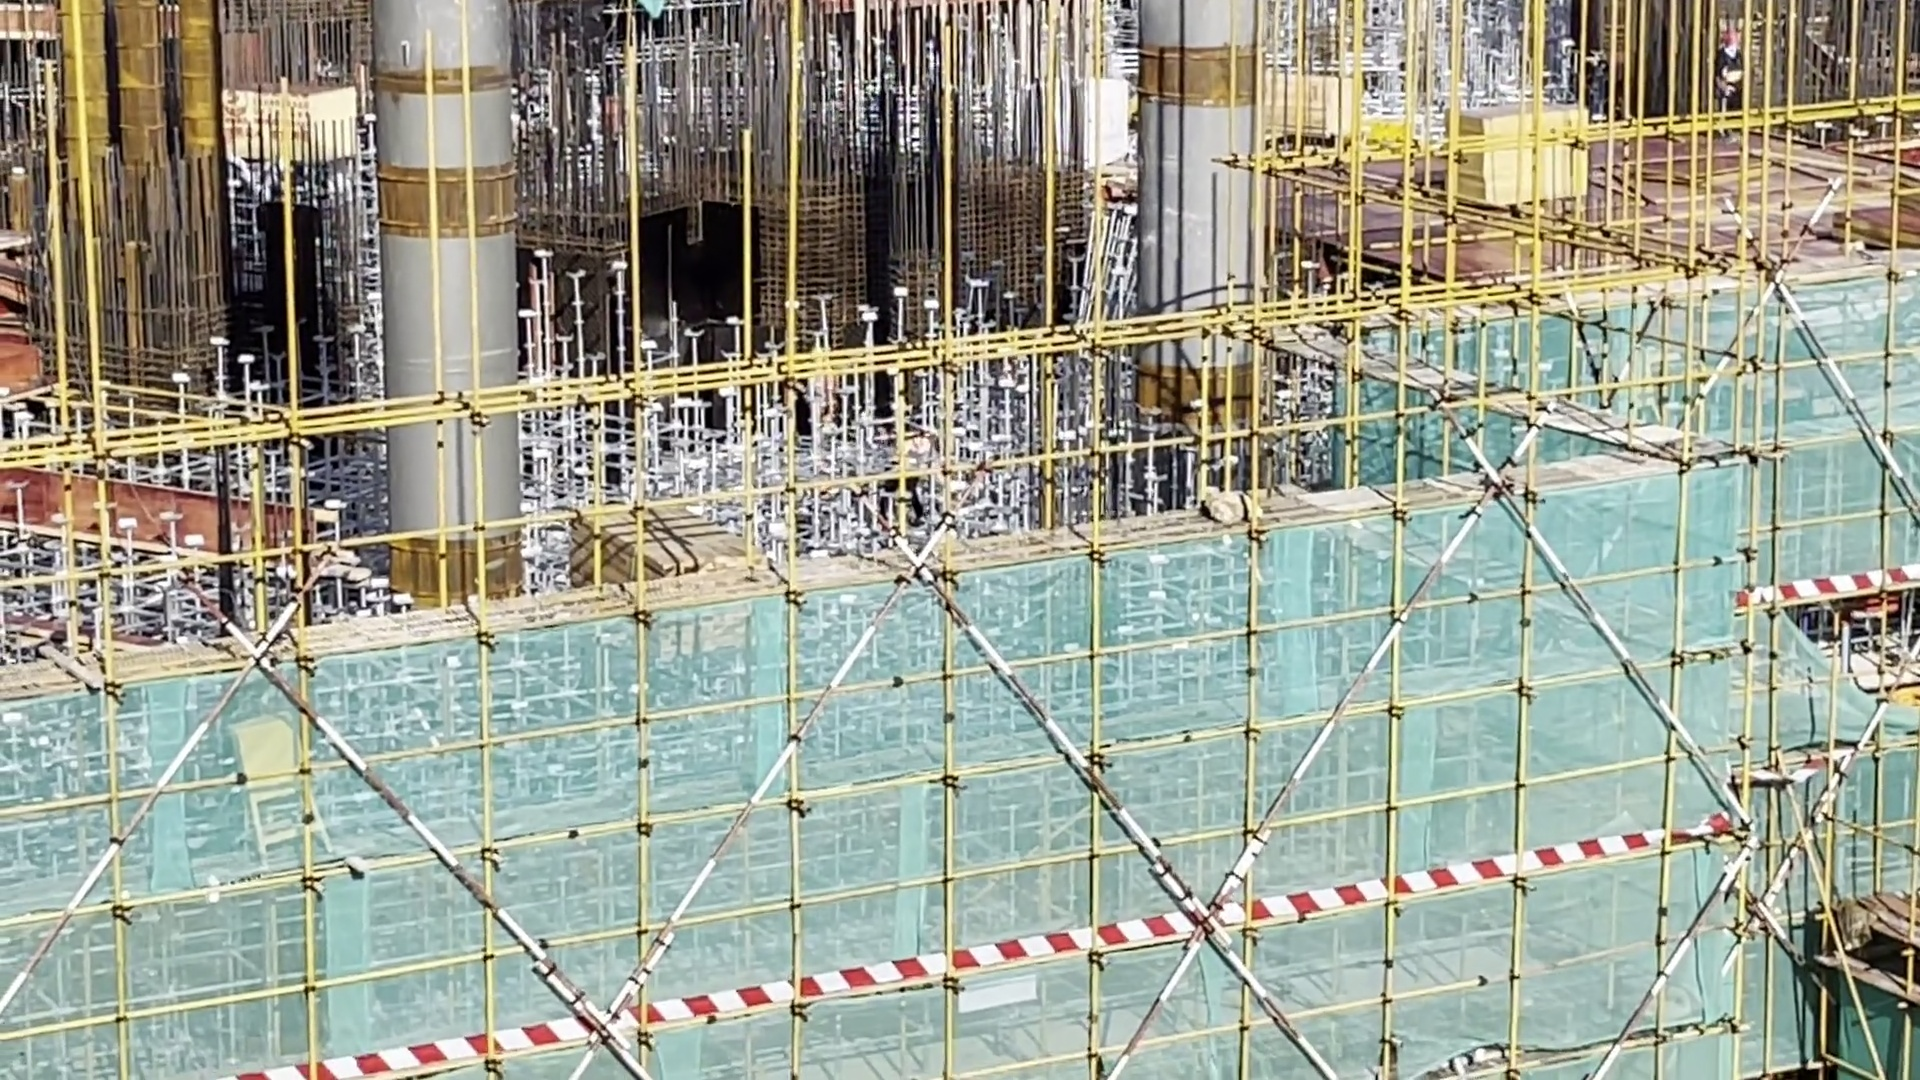ebox: (221, 716, 335, 858)
person: (1706, 28, 1745, 119)
vest: (1716, 52, 1745, 93)
